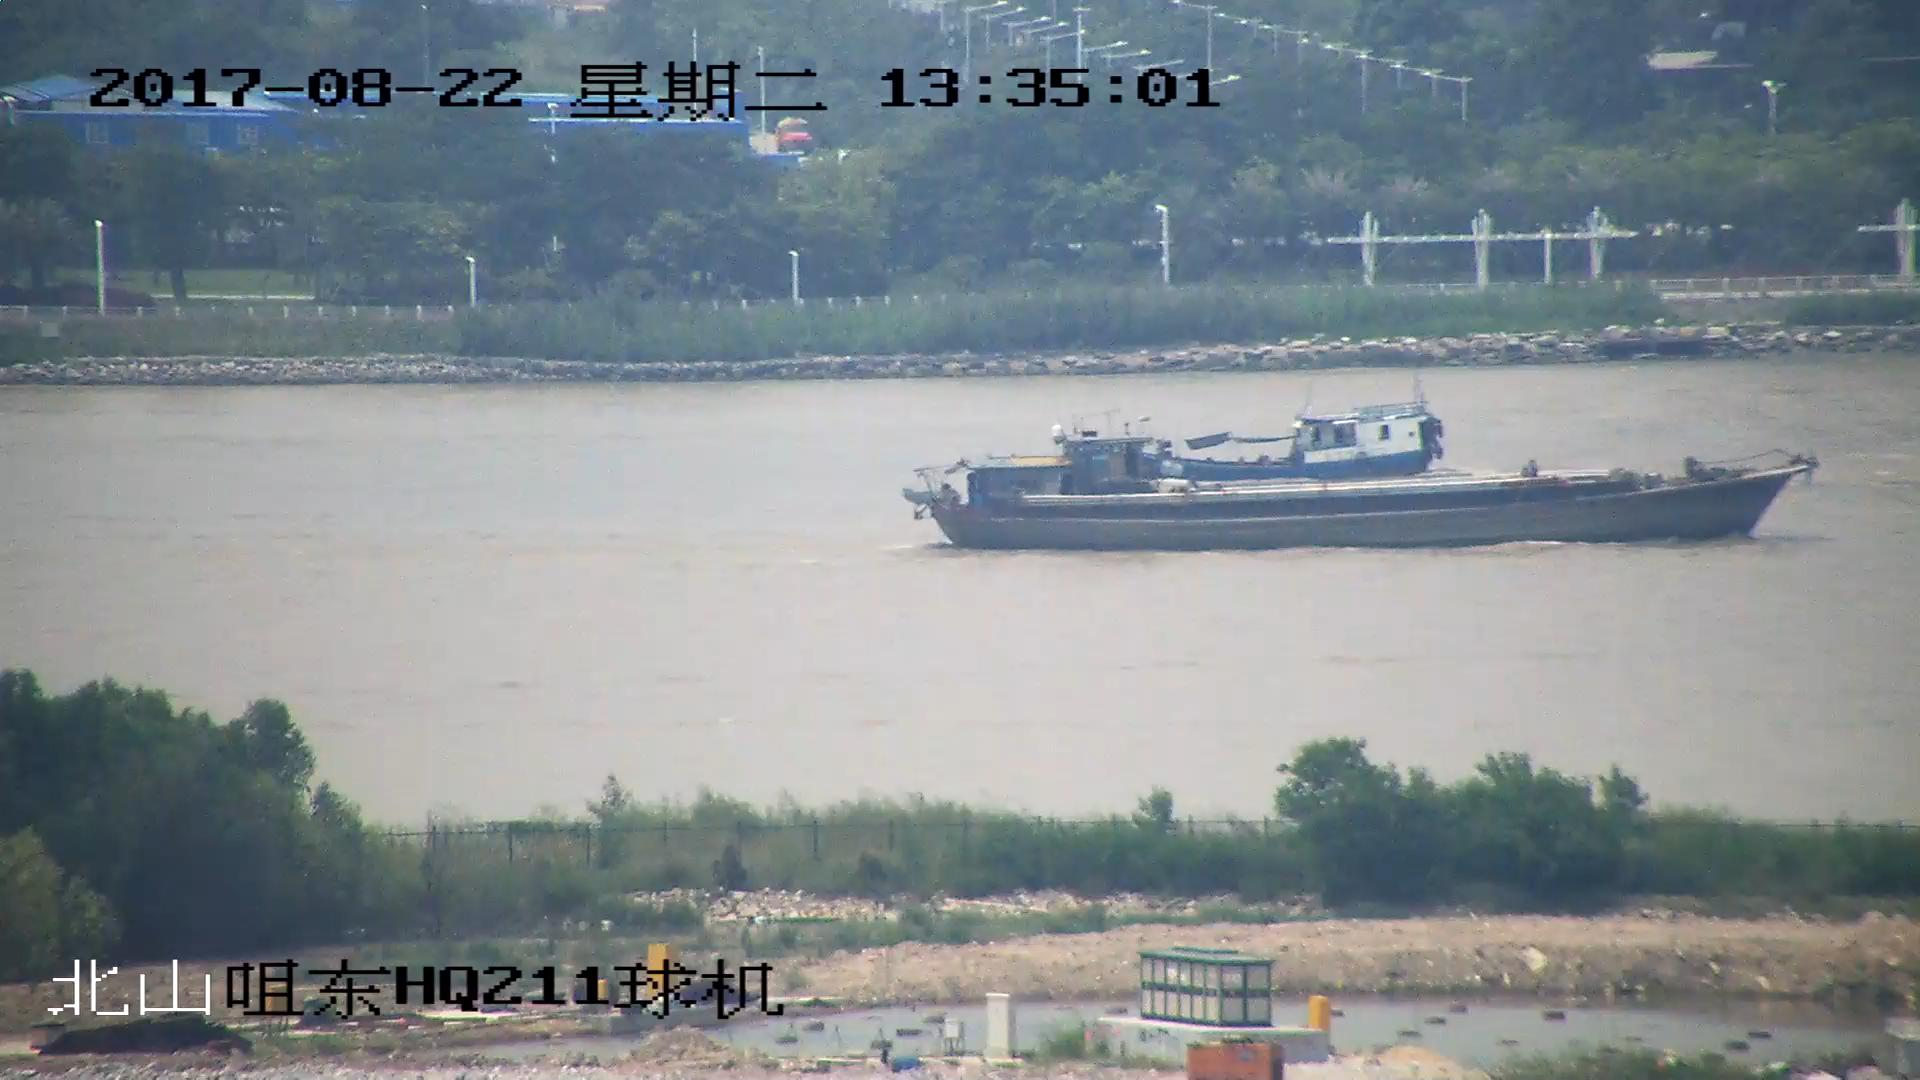bulk cargo carrier: (906, 435, 1818, 552)
fishing boat: (1055, 401, 1451, 486)
